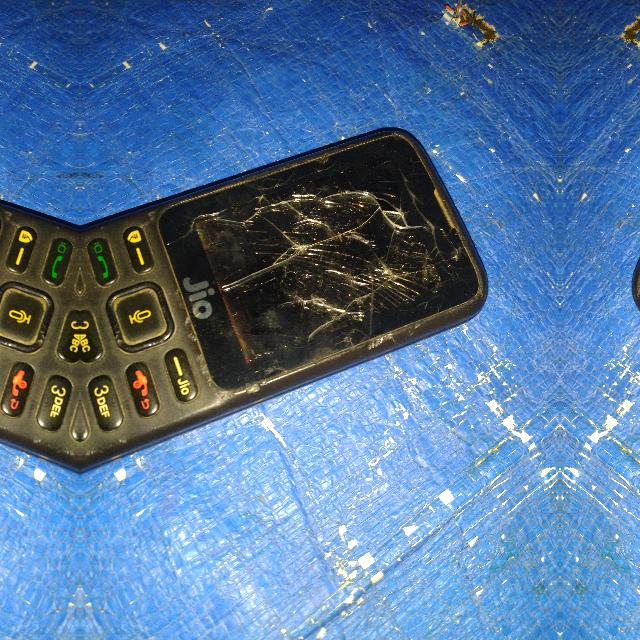phone_screen: (160, 135, 478, 389)
